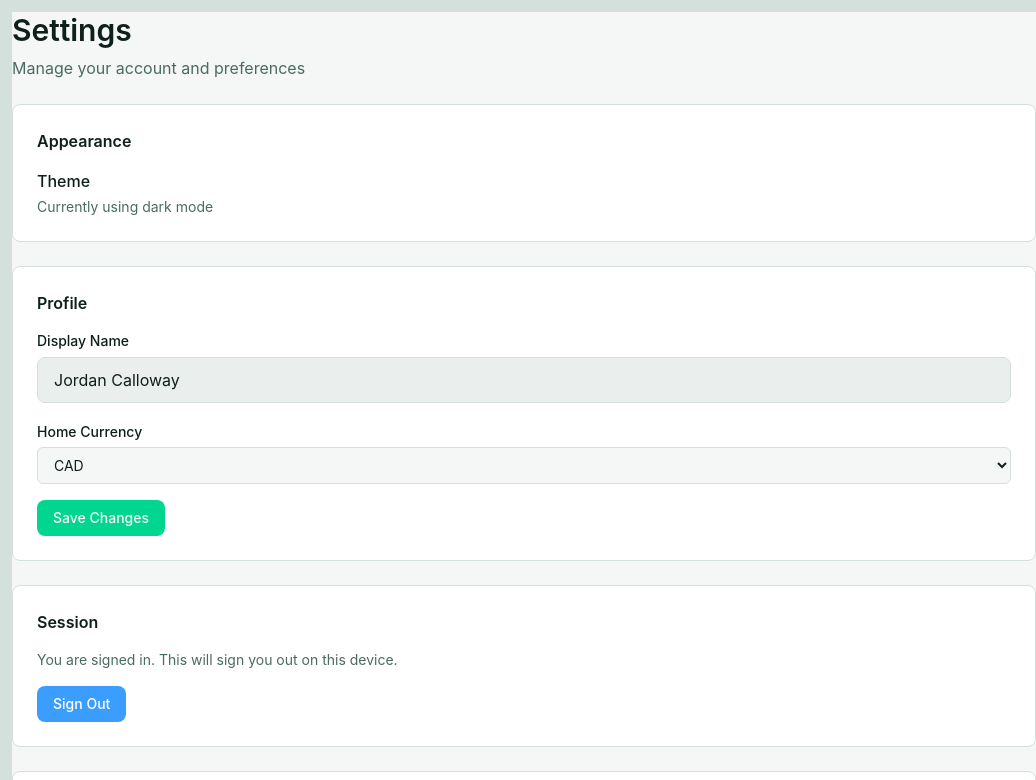
Test case: Settings page › save profile › shows "Saving…" while the request is in flight
Step 1. Click the button "Save Changes" → (101, 518), box left=37, top=500, right=165, bottom=536
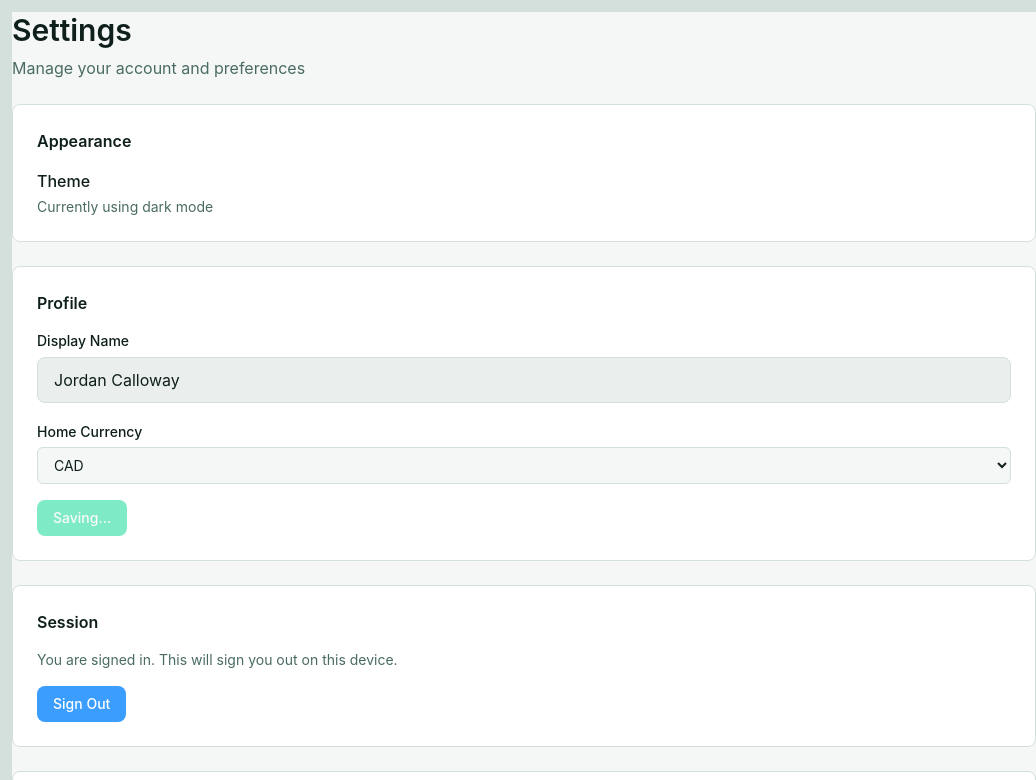
Expected: the button "Saving..." is disabled, left=37, top=500, right=127, bottom=536
